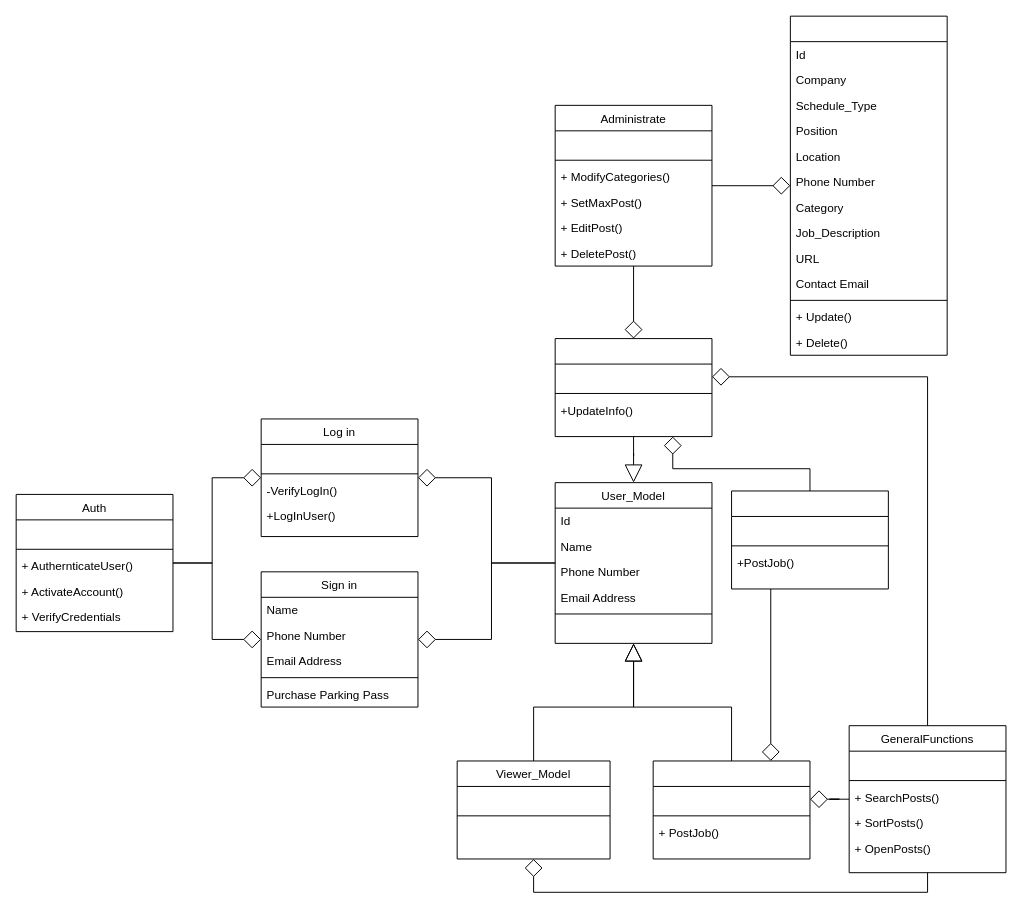
Some shapes in this 1022 by 908 pixel diagram are drawn without their labels. The shapes that lost their labels are listed below. From the top down, each one's box as (x1, y1, x2, y2) in pixels, then its label:
(789, 15, 947, 355): Post_Model
(554, 338, 712, 437): Admin_Model
(731, 490, 888, 589): UpperFunctions
(652, 760, 810, 859): Poster_Model
